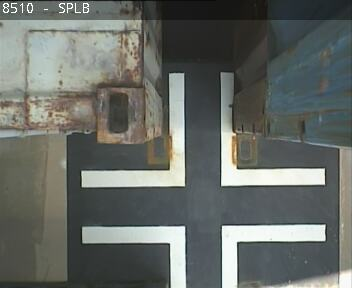groundmarker_1: (82, 72, 324, 187), (82, 224, 325, 287)
